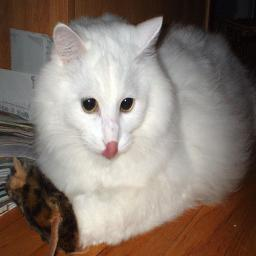catnose: (102, 139, 119, 162)
